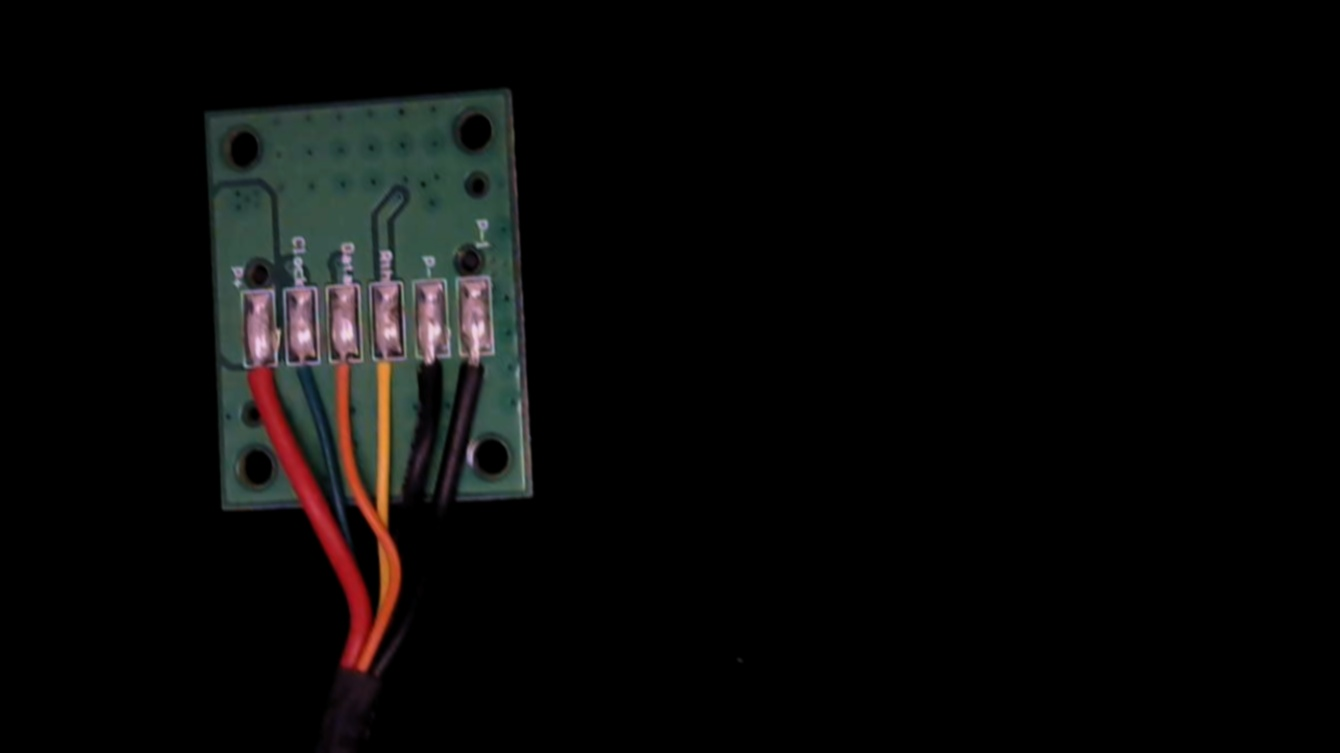Black: (412, 328, 451, 417)
Black1: (456, 328, 494, 411)
Green: (281, 338, 321, 424)
Orange: (325, 333, 362, 421)
Red: (239, 341, 278, 427)
Yellow: (364, 332, 403, 423)
